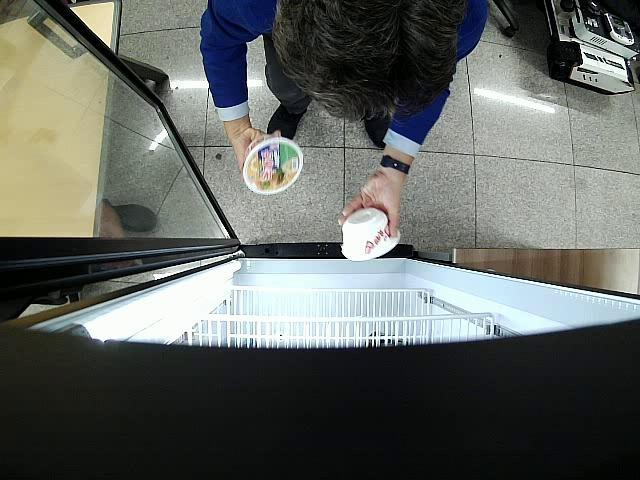09_yukGaeJang: (242, 135, 304, 195), (342, 207, 400, 262)
